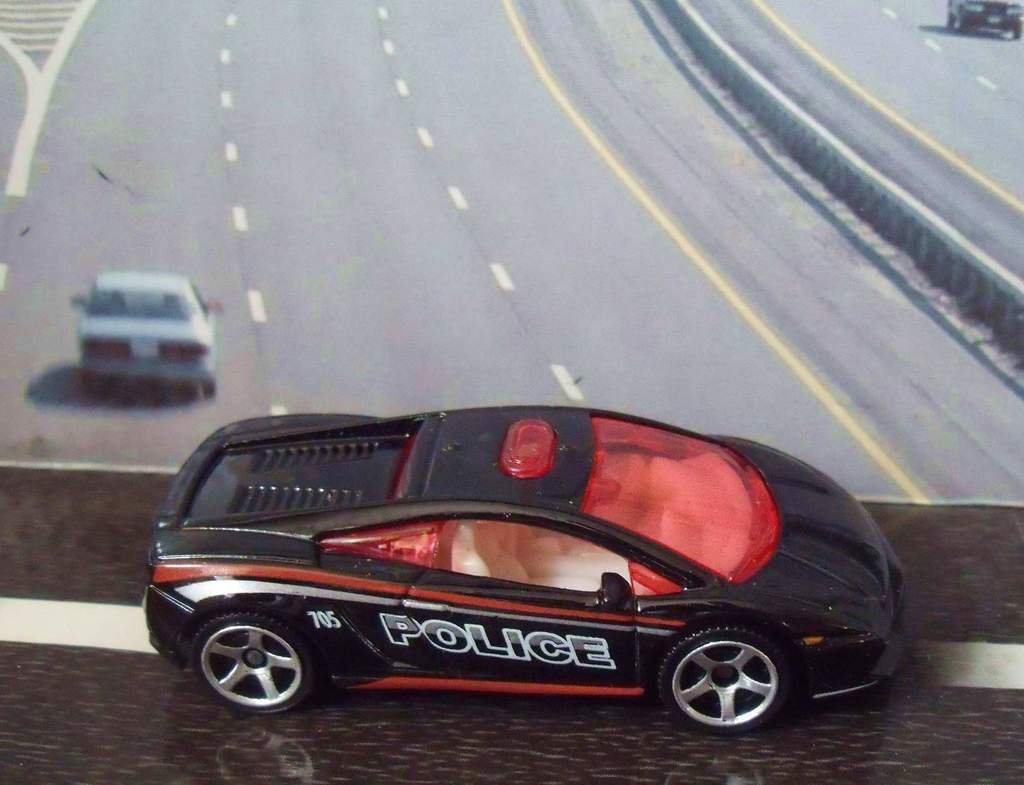cars: (141, 411, 900, 733), (66, 272, 220, 399)
